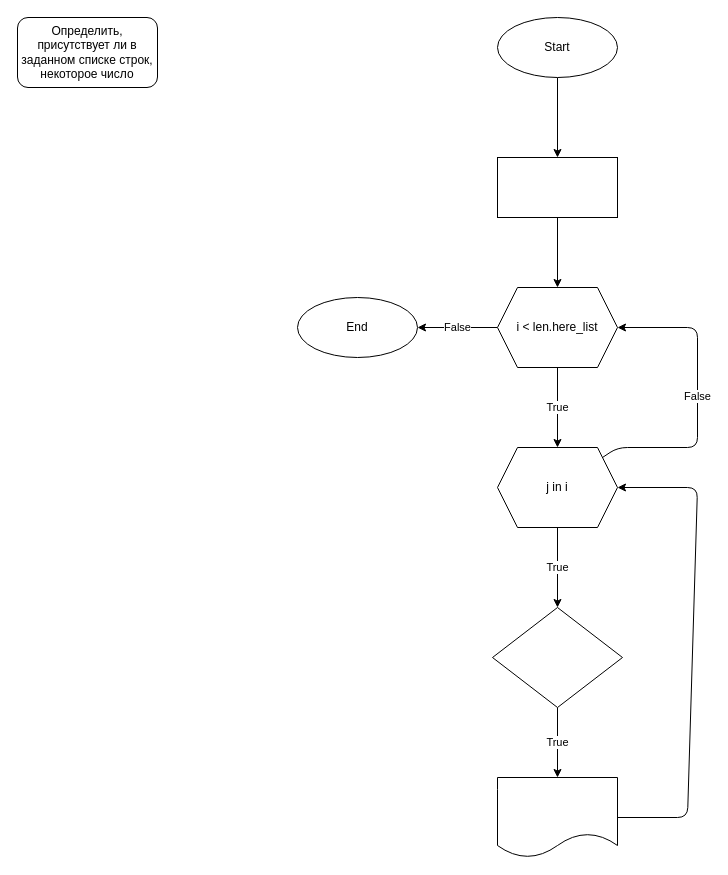
The diagram is 728 pixels wide and 875 high, and some of its shapes have lost their labels. The centre of each missing label's shape, as x and y in pixels:
"here_list[]" goes at pixel 557 187.
"j.have_digit == True" goes at pixel 557 657.
"print j" goes at pixel 557 817.
